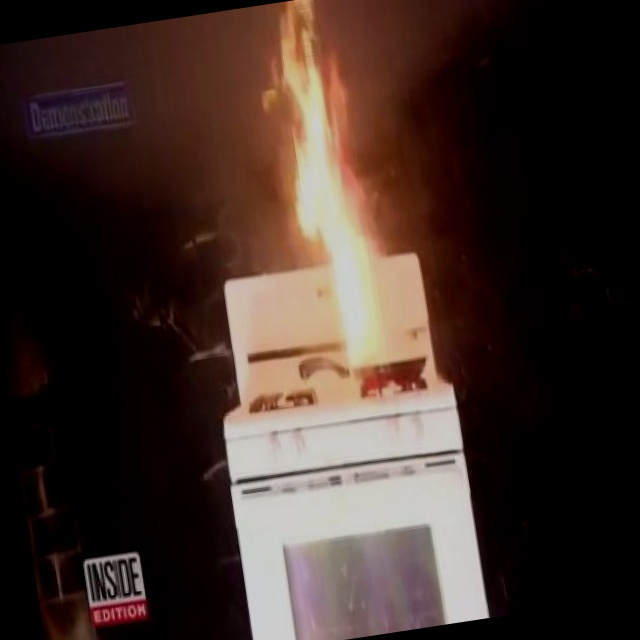fire: (218, 0, 466, 438)
